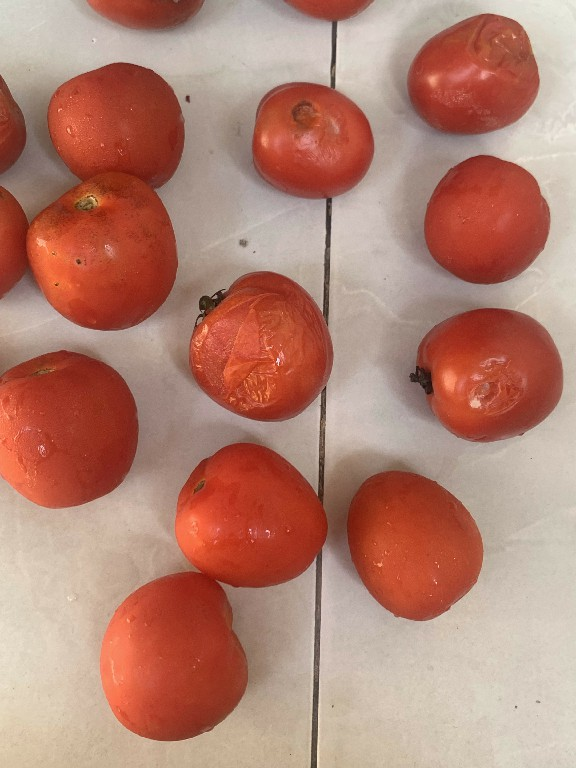NG: (25, 176, 178, 337), (187, 266, 338, 425), (406, 301, 566, 445), (401, 3, 545, 144), (247, 70, 374, 202)
OK: (91, 569, 260, 748), (338, 462, 501, 629), (173, 438, 331, 594), (0, 344, 147, 508), (418, 150, 562, 285), (42, 58, 193, 185)
